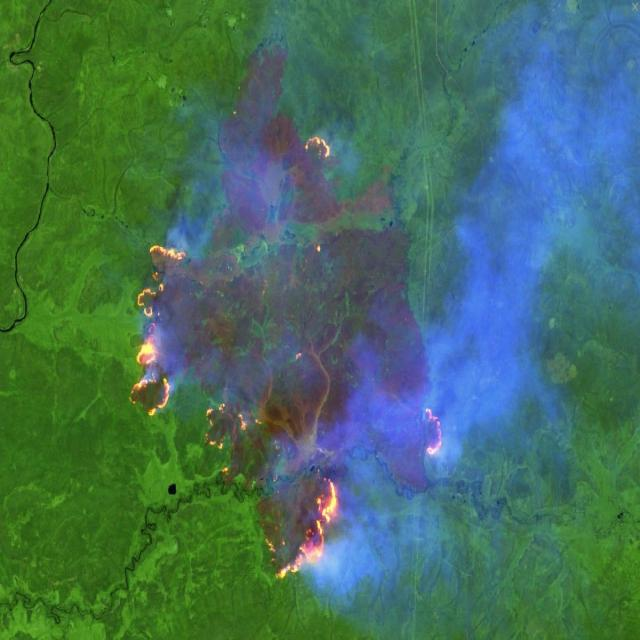fire: (124, 132, 446, 585)
